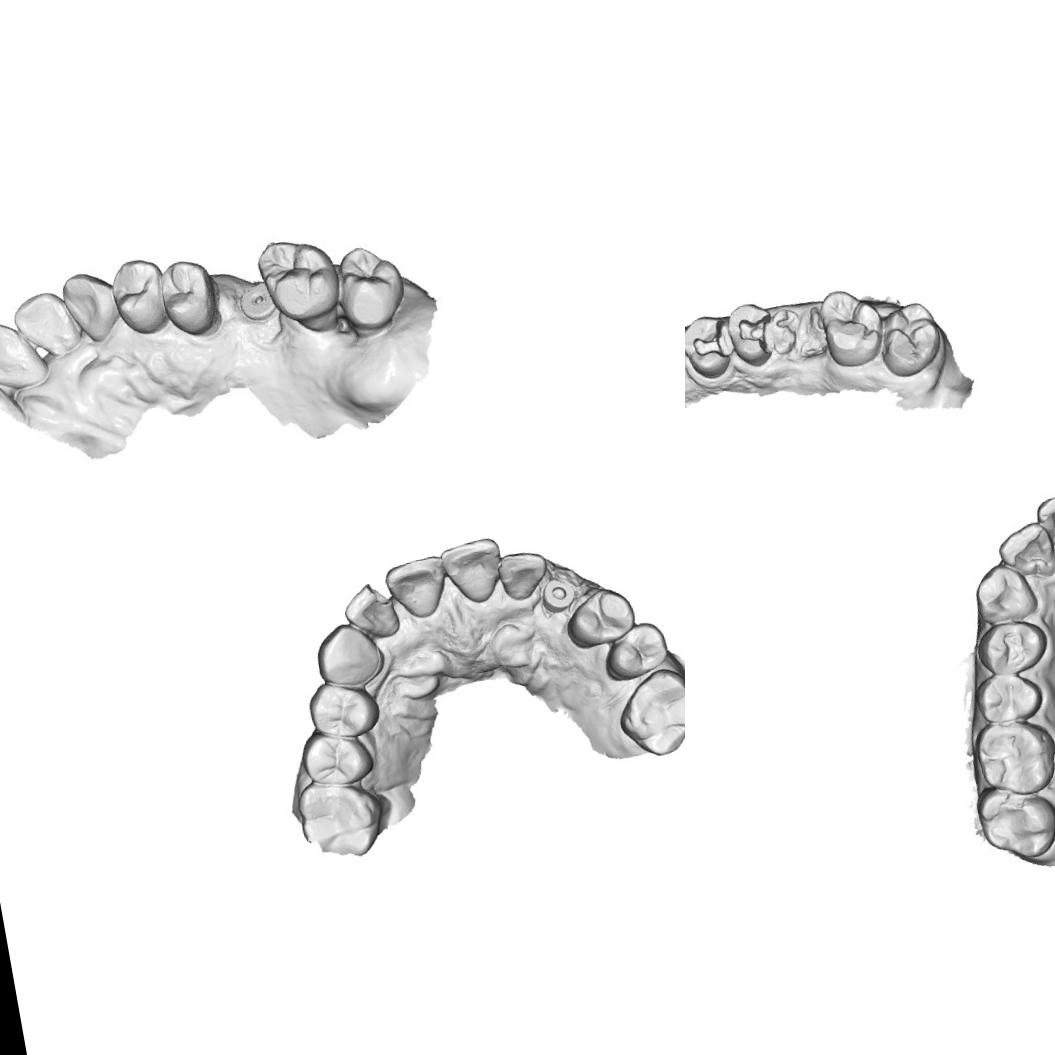canine: (55, 262, 130, 352), (307, 616, 390, 695), (971, 560, 1038, 621)
implant: (534, 571, 584, 620), (238, 282, 277, 322)
incisor: (8, 286, 85, 367), (435, 531, 508, 609), (380, 550, 452, 622), (338, 576, 404, 650), (0, 310, 56, 397), (493, 546, 551, 612), (996, 523, 1055, 582), (1036, 486, 1055, 553)
inlay: (731, 308, 778, 360), (686, 316, 734, 366)
molar: (254, 225, 347, 330), (293, 770, 390, 865), (610, 661, 685, 764), (974, 780, 1055, 868), (971, 714, 1055, 797), (815, 282, 889, 372), (872, 296, 946, 380), (336, 242, 407, 328)
premolar: (559, 580, 642, 654), (154, 253, 222, 342), (294, 720, 374, 791), (597, 616, 676, 687), (302, 673, 380, 744), (109, 253, 172, 339), (974, 615, 1053, 678), (972, 666, 1050, 722)
